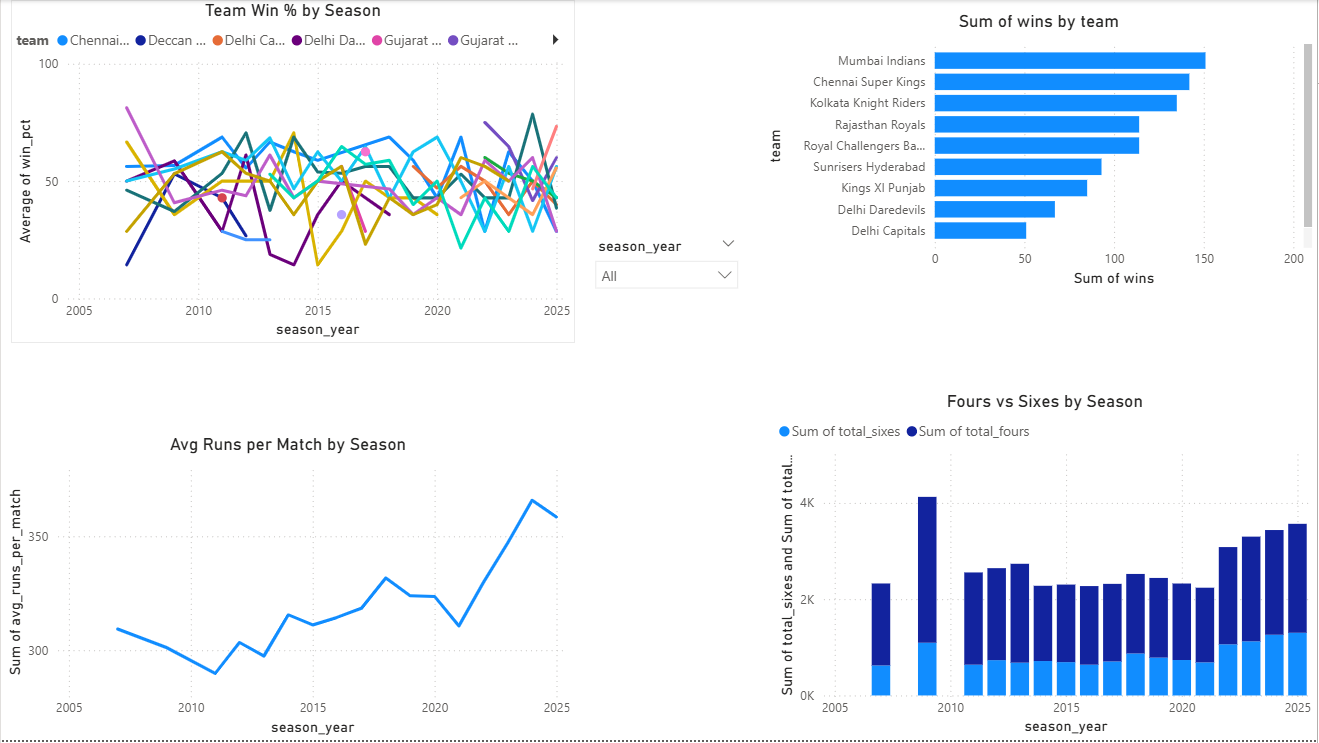

The dashboard page shown, as its layout file describes it:
{"tool":"powerbi","page":{"name":"Team & Season Trends","canvas":[1280,720],"ordinal":3},"visuals":[{"type":"lineChart","title":"Team Win % by Season","fields":{"Category":["team_stats.season_year"],"Y":["Avg(team_stats.win_pct)"],"Series":["team_stats.team"]},"box":[9.7,0,548.6,333.6],"z":0},{"type":"lineChart","title":"Avg Runs per Match by Season","fields":{"Category":["season_summary.season_year"],"Y":["Sum(season_summary.avg_runs_per_match)"]},"box":[0,422.1,558.3,297.6],"z":1},{"type":"slicer","fields":{"Values":["season_summary.season_year"]},"box":[568,225.7,158.5,230.5],"z":2},{"type":"barChart","fields":{"Category":["team_stats.team"],"Y":["Sum(team_stats.wins)"]},"box":[739.2,10.7,540.8,272.3],"z":3},{"type":"columnChart","title":"Fours vs Sixes by Season","fields":{"Category":["season_summary.season_year"],"Y":["Sum(season_summary.total_sixes)","Sum(season_summary.total_fours)"]},"box":[750.9,380.3,529.1,339.5],"z":4}]}

Visuals, with their boxes in screenshot pixels (x1, y1, x2, y2), scaled from the page's 1280x720 canvas onto the 1319x743 screenshot:
"Team Win % by Season" lineChart: bbox=[10, 0, 575, 344]
"Avg Runs per Match by Season" lineChart: bbox=[0, 436, 575, 742]
slicer - season_summary.season_year: bbox=[585, 233, 749, 471]
barChart - team_stats.team x Sum(team_stats.wins): bbox=[762, 11, 1318, 292]
"Fours vs Sixes by Season" columnChart: bbox=[774, 392, 1318, 742]
